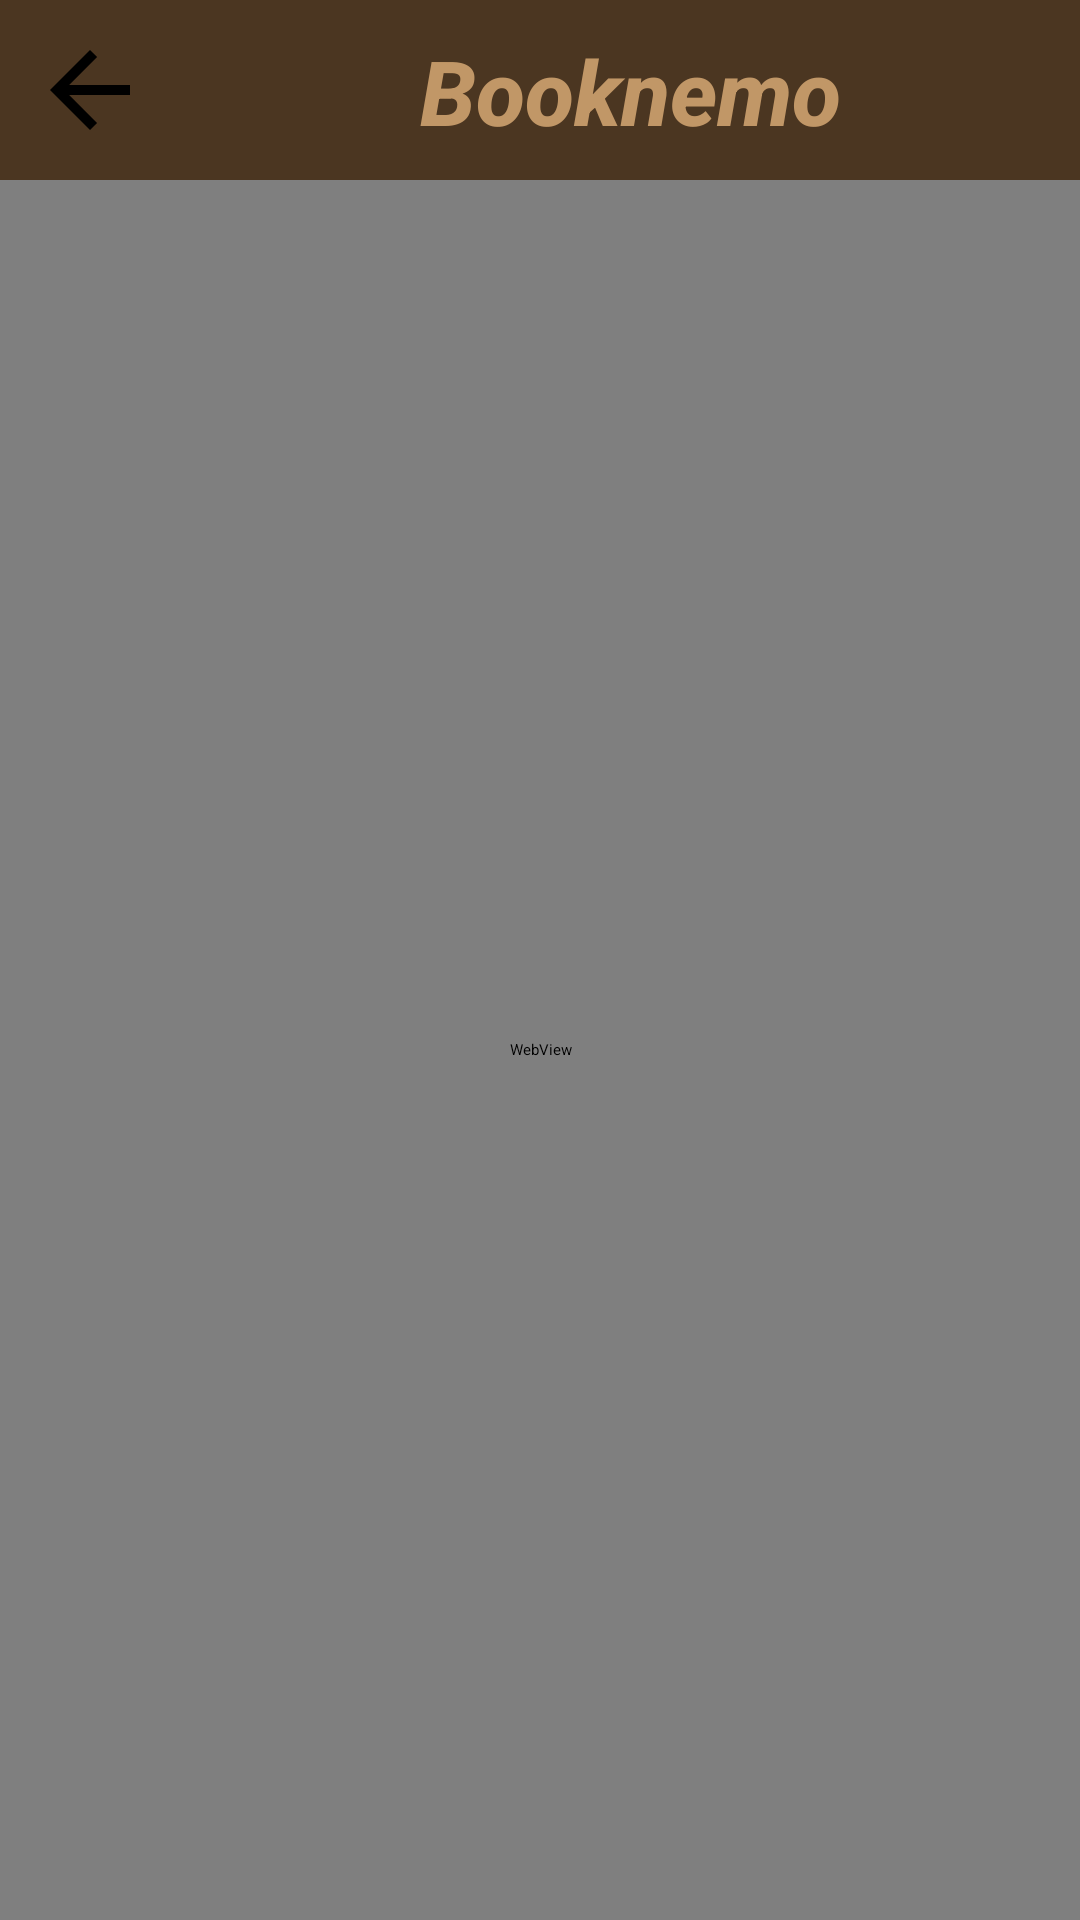

Point at icon controls on the screen. Image size 1080×1920, points as (x,y).
Back: (90,90)
